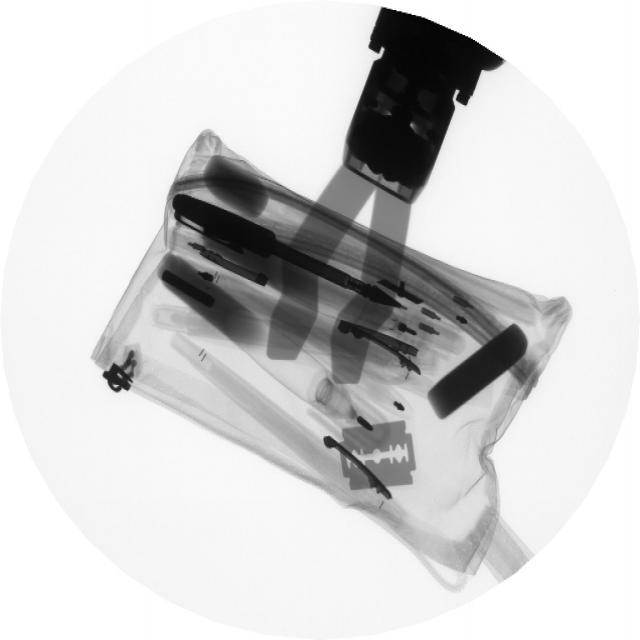BLADE: (336, 413, 426, 503)
